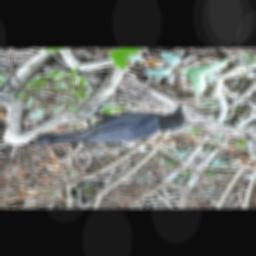Crow: (28, 80, 199, 173)
